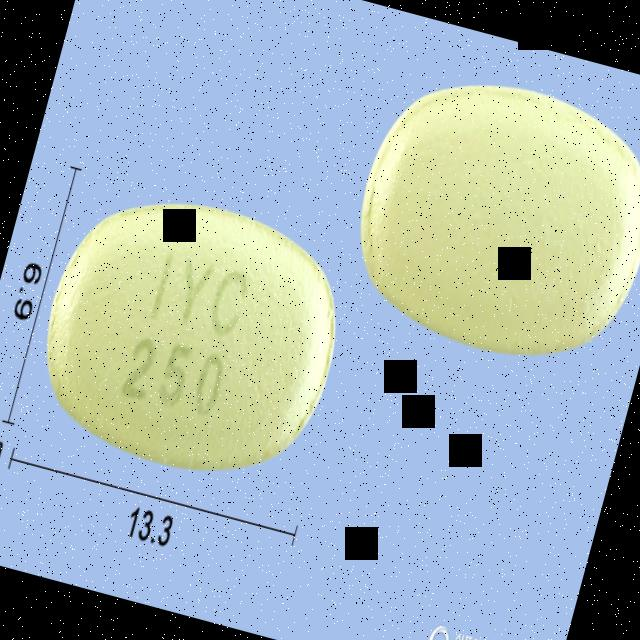Clafacin -500mg: (14, 163, 368, 508)
